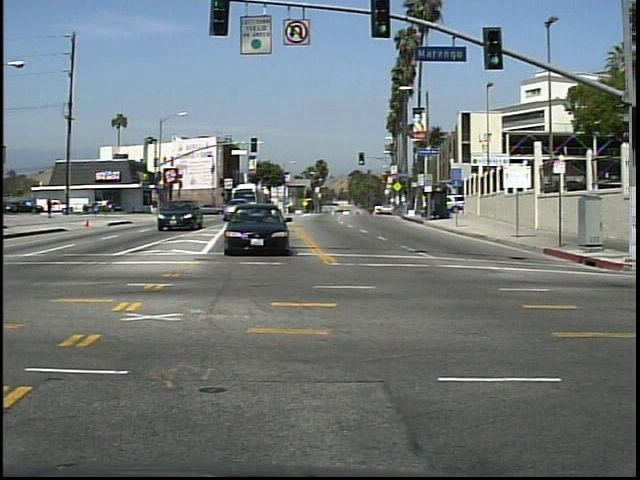person: (45, 195, 58, 221)
